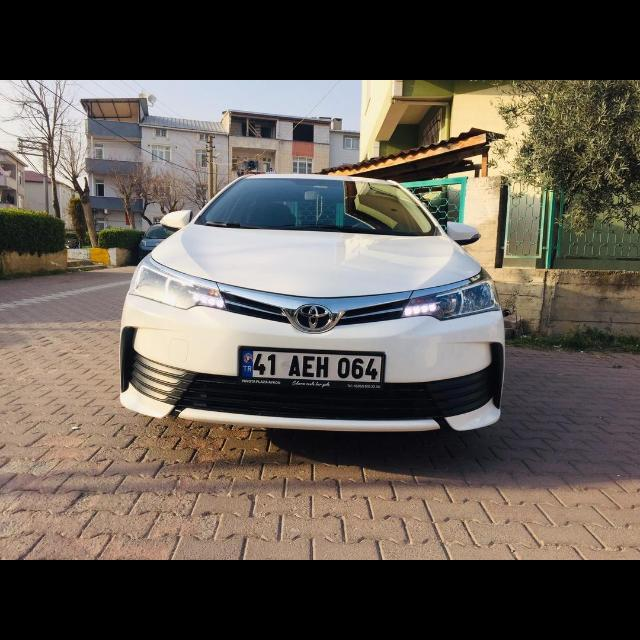Plaka: (242, 348, 384, 382)
